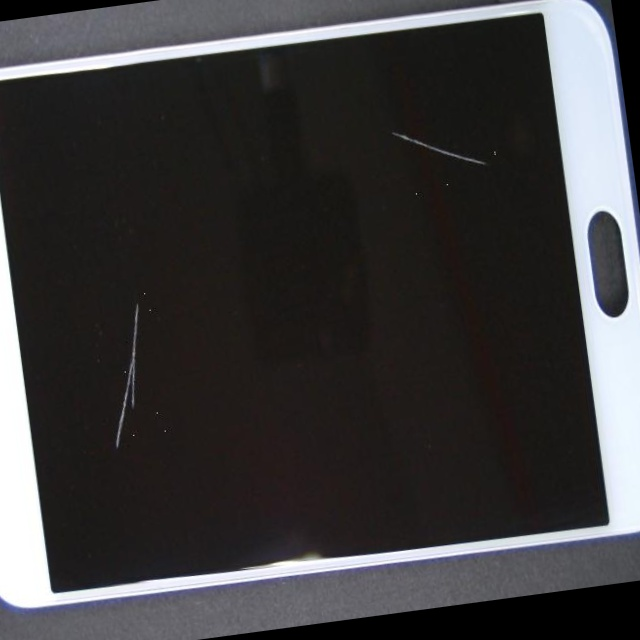scratch: (86, 0, 640, 297), (34, 68, 227, 514)
